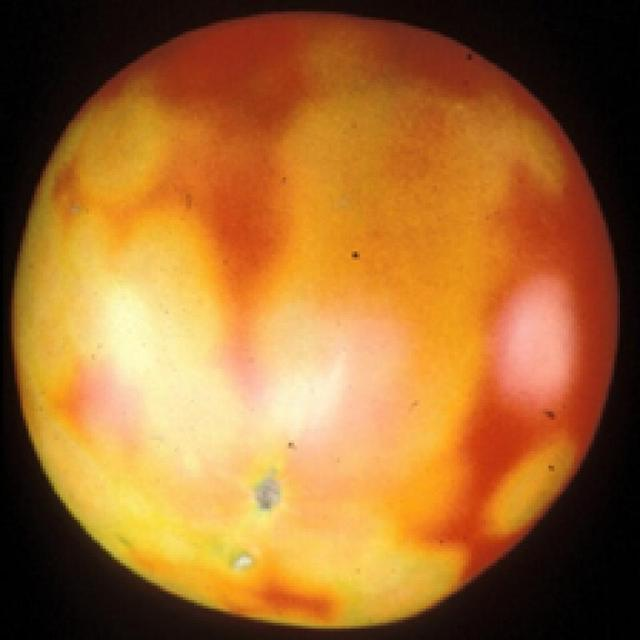Spotted wilt Virus Fruit: (8, 0, 415, 427)
